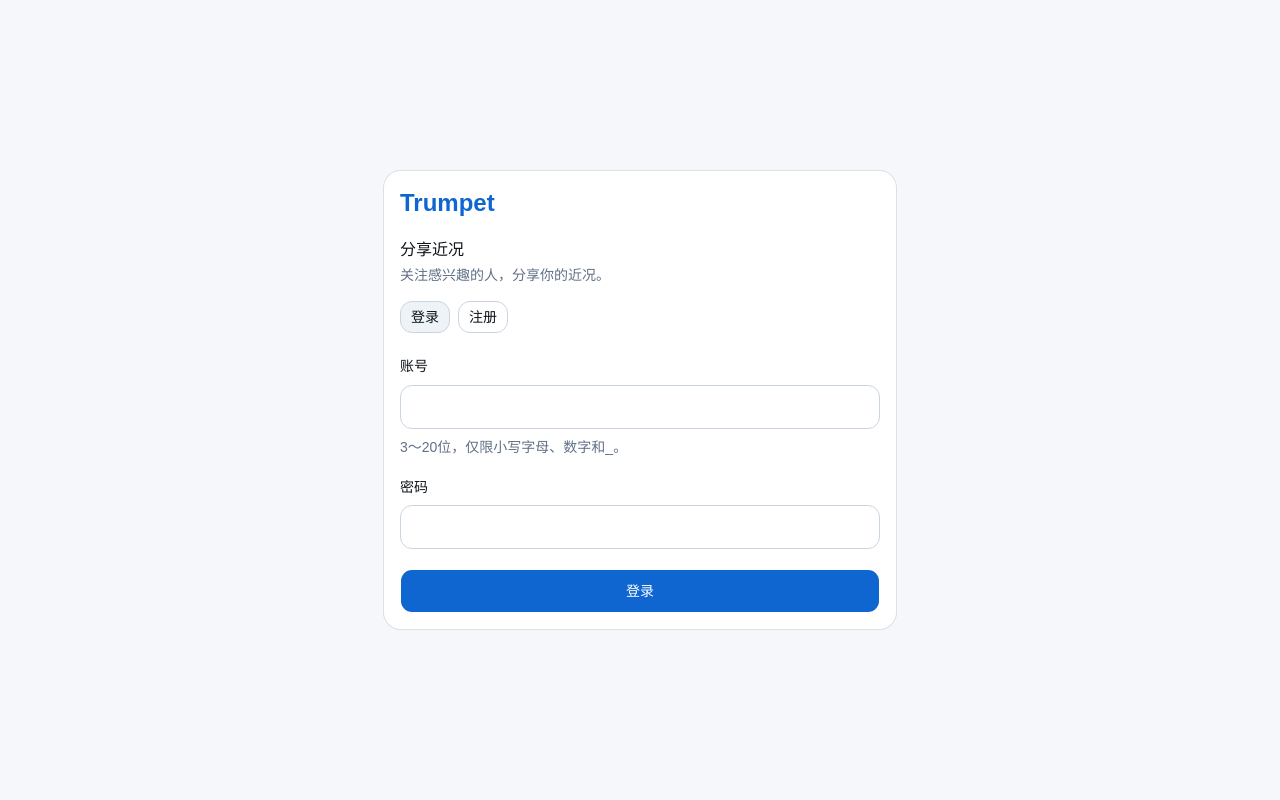
App authentication › renders the login form and loads the timeline after login
Expected: the heading "分享近况" is shown, [400, 241, 464, 258]
Type "mina" into the field labelled "账号" at (640, 406), box [400, 384, 880, 428]
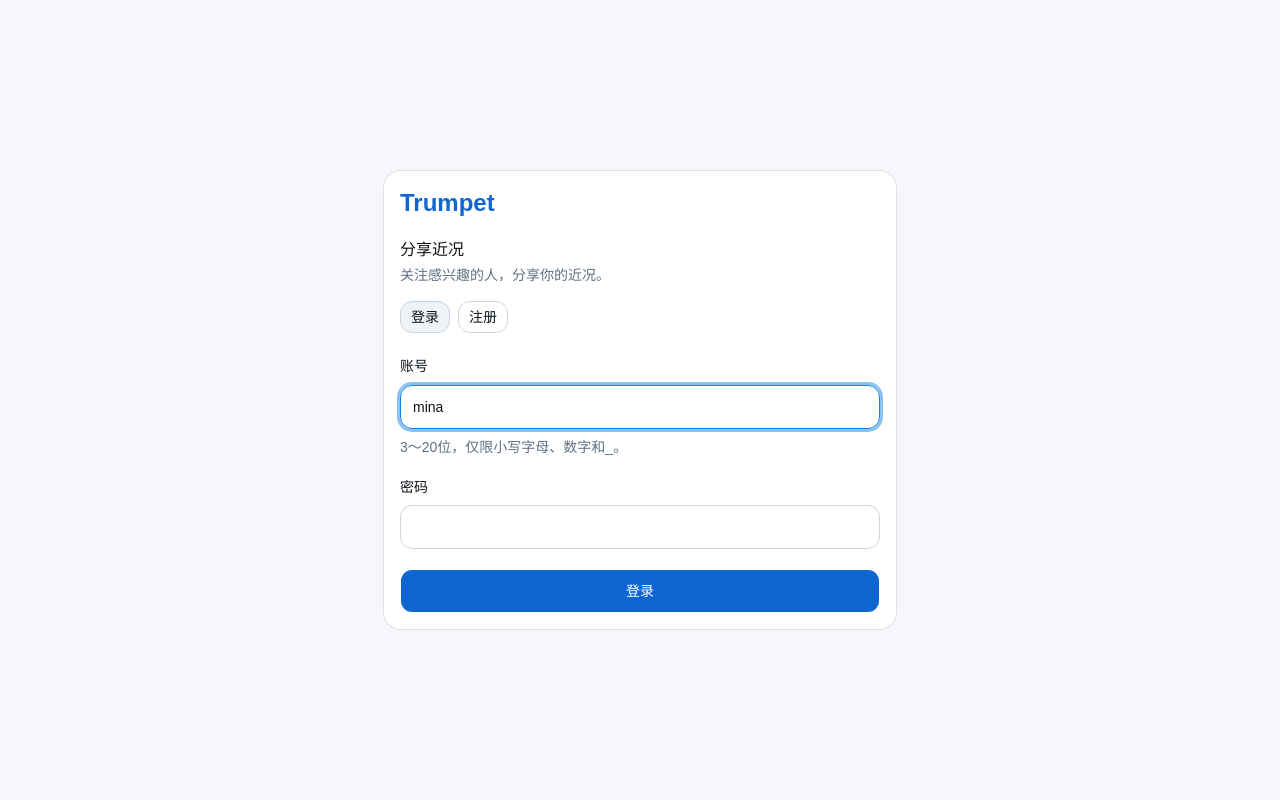
Type "password123" into the password field labelled "密码" at (640, 527), box [400, 505, 880, 549]
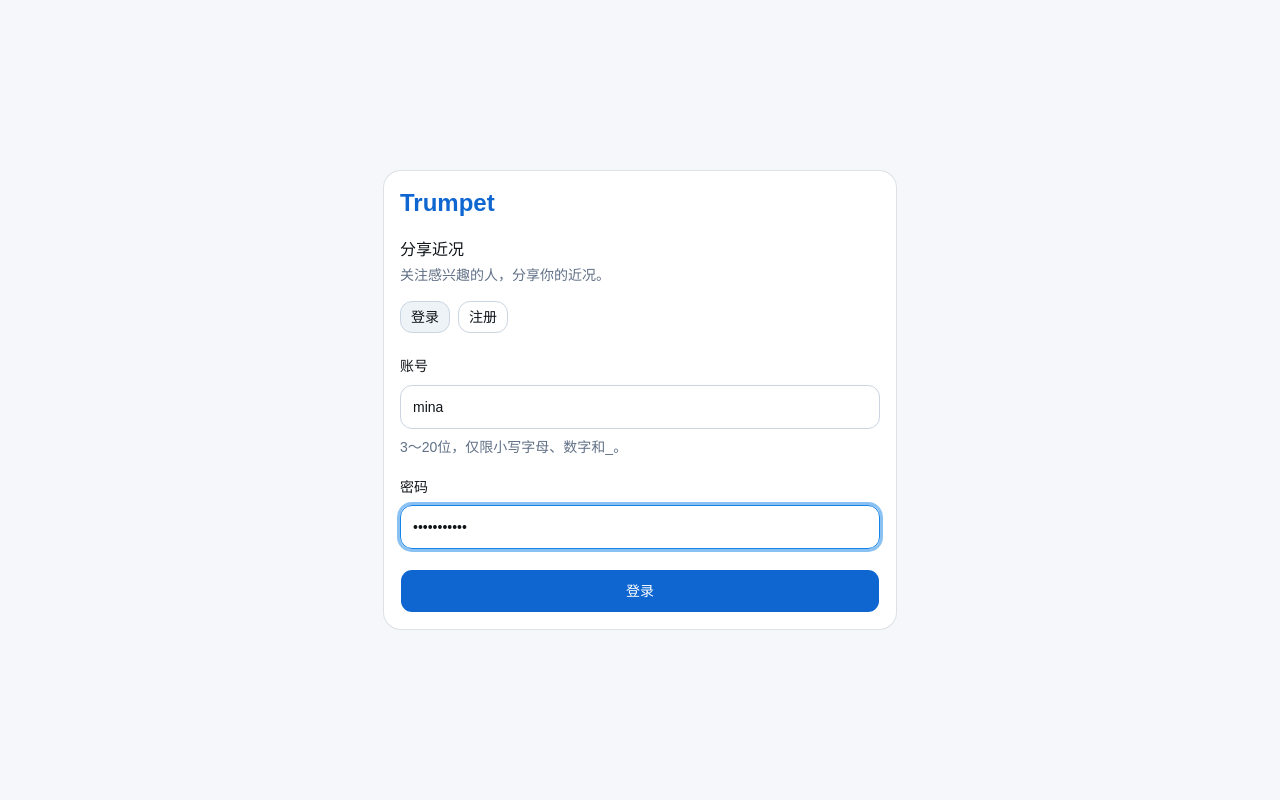
Click the button "登录" below "密码" at (640, 591), box [400, 569, 880, 613]
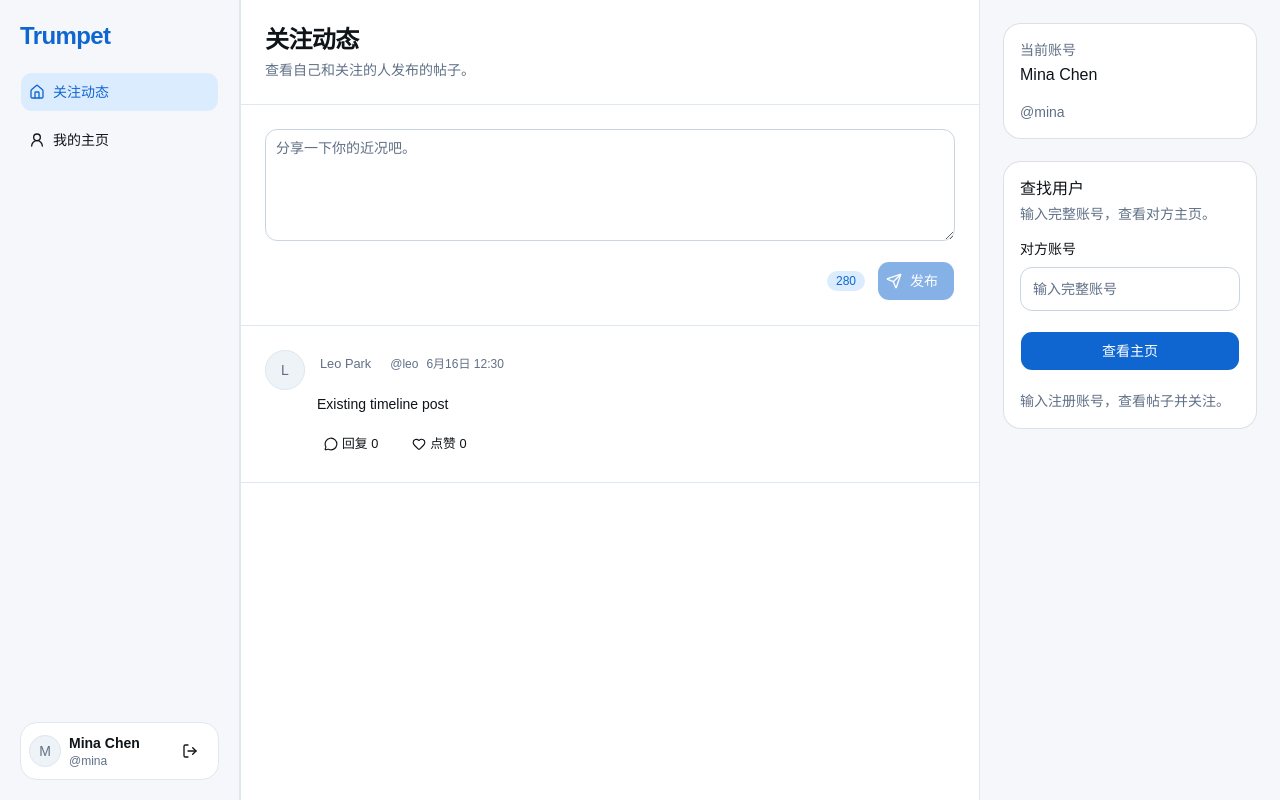
Result: the heading "关注动态" is shown at [265, 26, 359, 53]
Result: the text "Existing timeline post" is shown at [317, 396, 448, 412]
